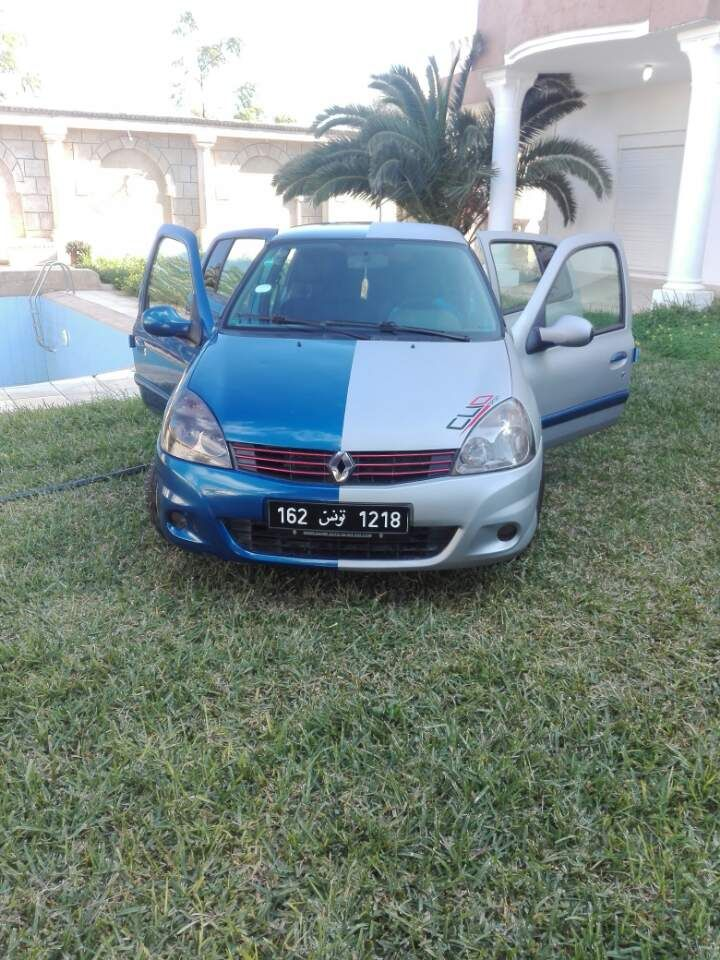LP: (263, 496, 411, 540)
